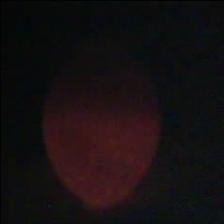fertile: (38, 37, 165, 214)
